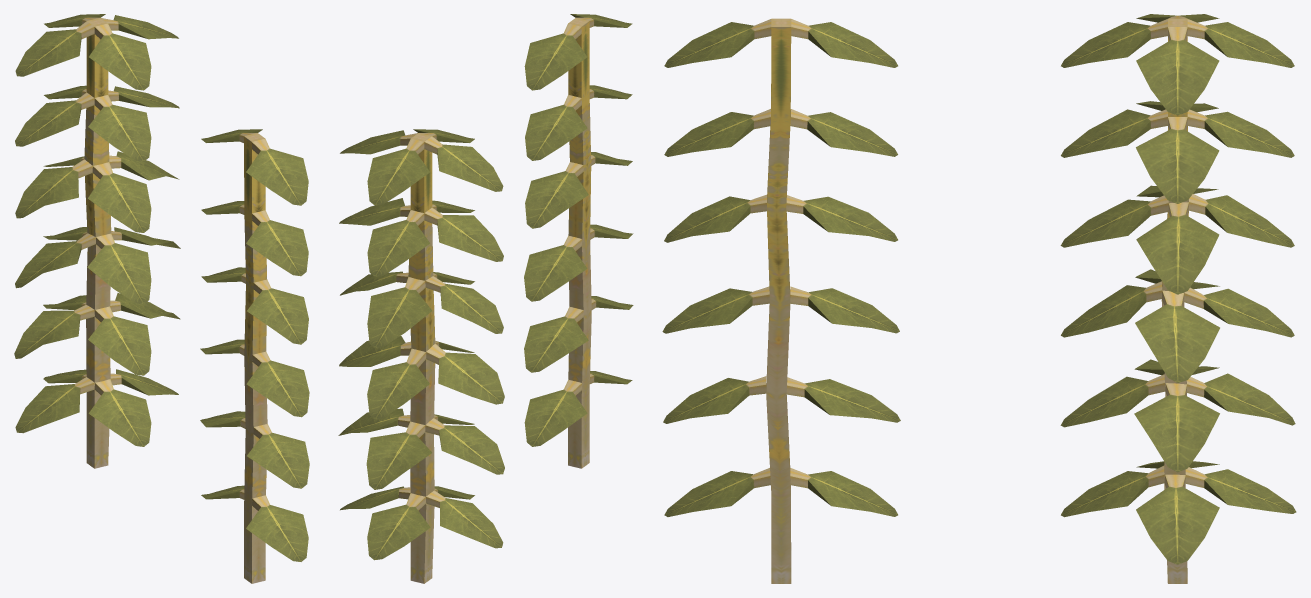
Rendered from Kelp.fbx.
3 views of the same model, side by side, from view 1: azimuth 30°, elevation 25°; view 2: azimuth 150°, elevation 25°; view 3: azimuth 270°, elevation 25° (orthographic). The views are drawn at different scales.
Parts seen in each view (by area): view 1: Kelp_02, Kelp_01; view 2: Kelp_02, Kelp_01; view 3: Kelp_02, Kelp_01.
Part boxes in pixels (box(x1,y1,x2,y2)): Kelp_02: box(14, 14, 180, 468); Kelp_01: box(200, 129, 309, 583); Kelp_02: box(338, 129, 504, 583); Kelp_01: box(524, 14, 633, 468); Kelp_02: box(1060, 14, 1296, 583); Kelp_01: box(662, 18, 900, 583).
Size of the model in its own units: 120 by 310 by 320.
